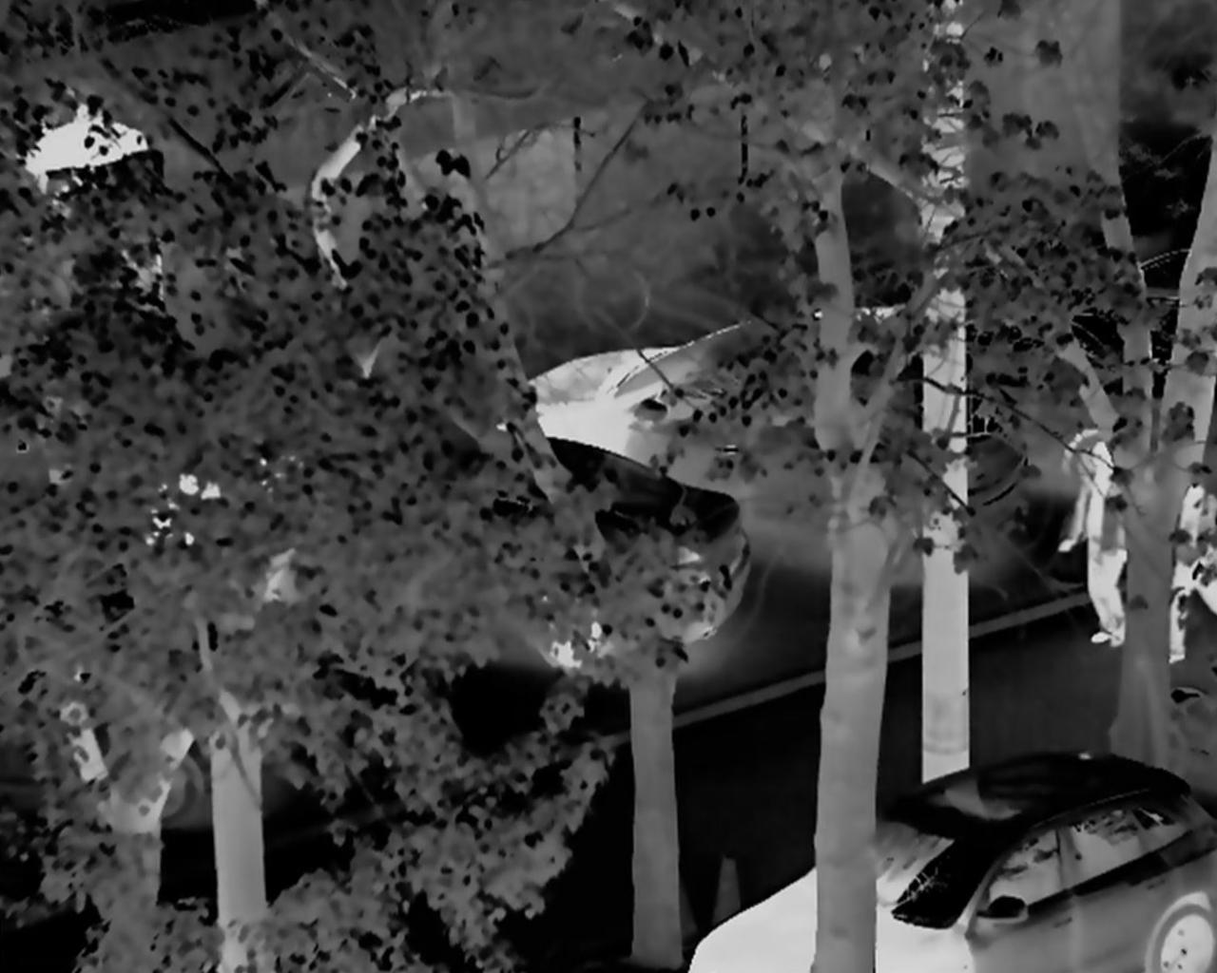person: (1055, 435, 1135, 646), (1148, 473, 1211, 668)
